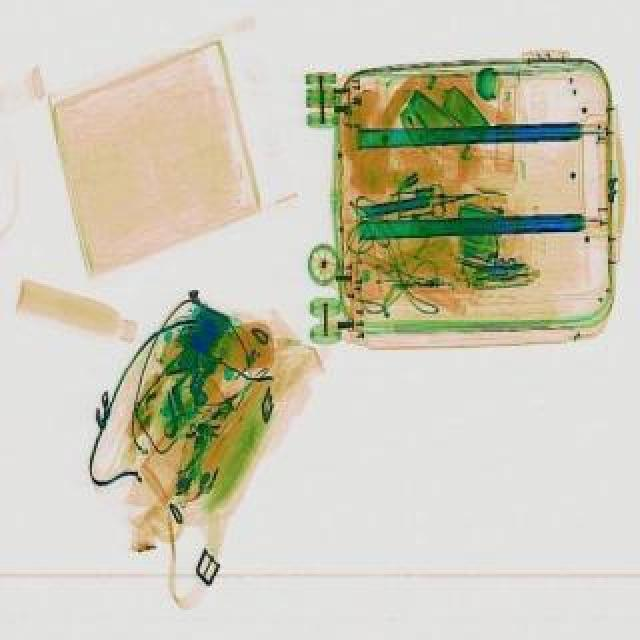pliers: (422, 182, 482, 222)
